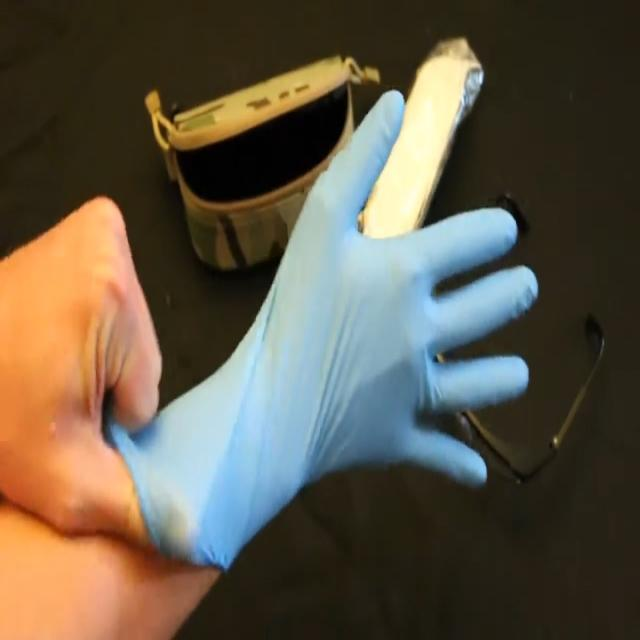Gloves: (99, 91, 541, 596)
